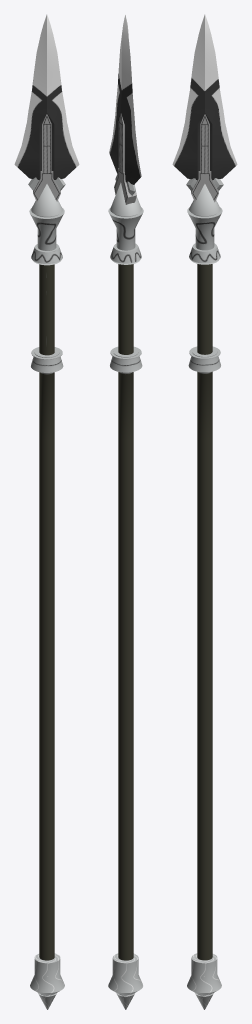
Rendered from Spear.fbx.
The picture shows the model from 3 angles, left to right: view 1: azimuth 90°, elevation 25°; view 2: azimuth 210°, elevation 25°; view 3: azimuth 270°, elevation 25°; orthographic projection.
Visible parts, largest first — view 1: pommel.001; view 2: pommel.001; view 3: pommel.001.
Part boxes in pixels (box(x1,y1,x2,y2)): pommel.001: box(14, 14, 79, 1009); pommel.001: box(108, 15, 143, 1009); pommel.001: box(172, 14, 237, 1009).
Size of the model in its own units: 69.65 by 2159 by 128.
